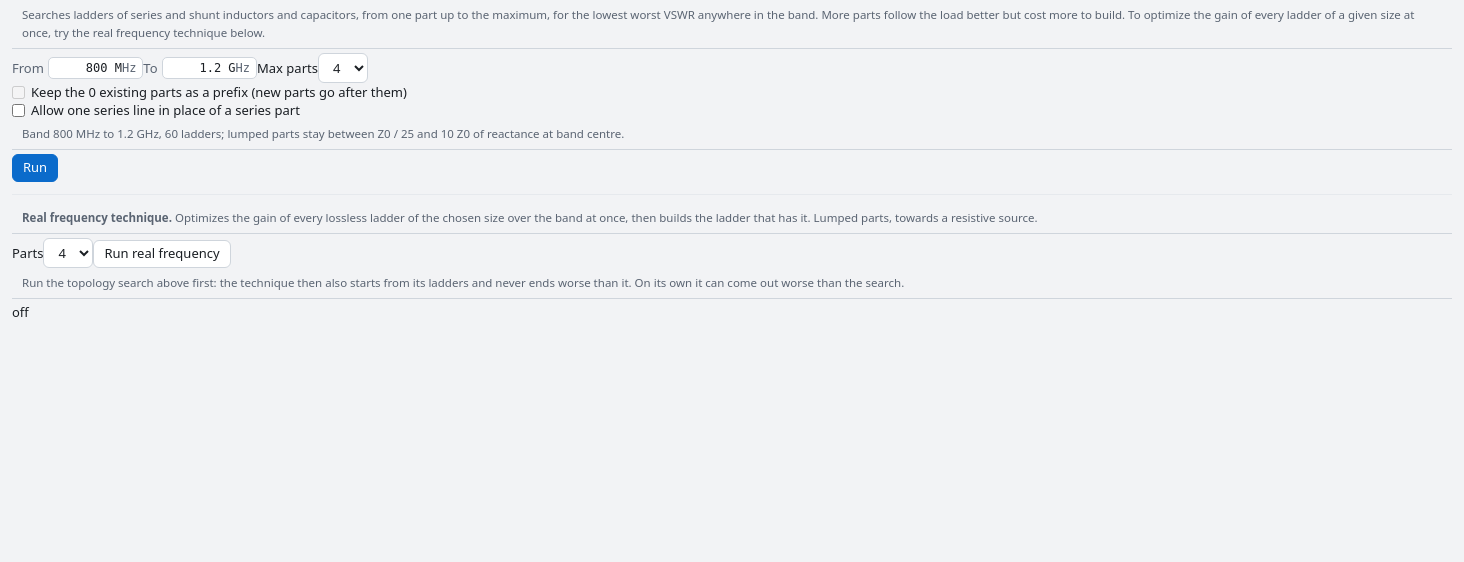
Test: Broadband list on a coarse pointer, target = Z0 › control: with a stable target object the same tap shows Add
Click the button "Run".
click(35, 168)  # box [12, 154, 58, 182]
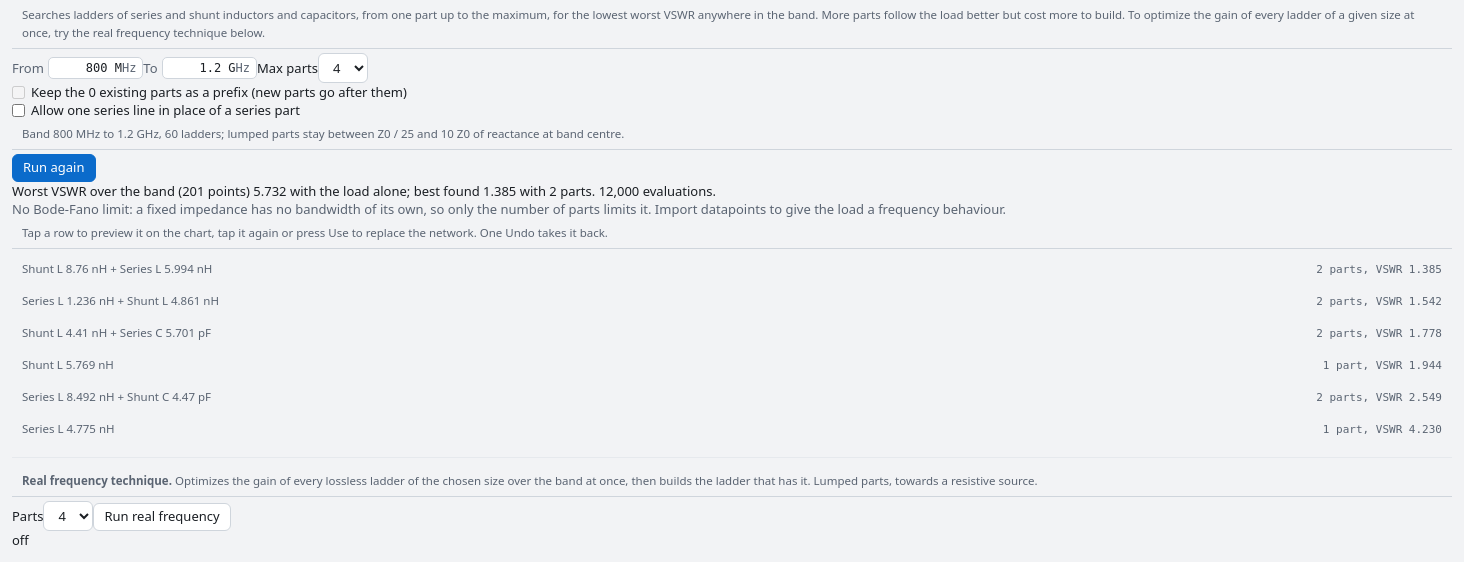
Click the 1st button with class "solution-pick".
click(42, 268)  # box [12, 253, 1452, 285]
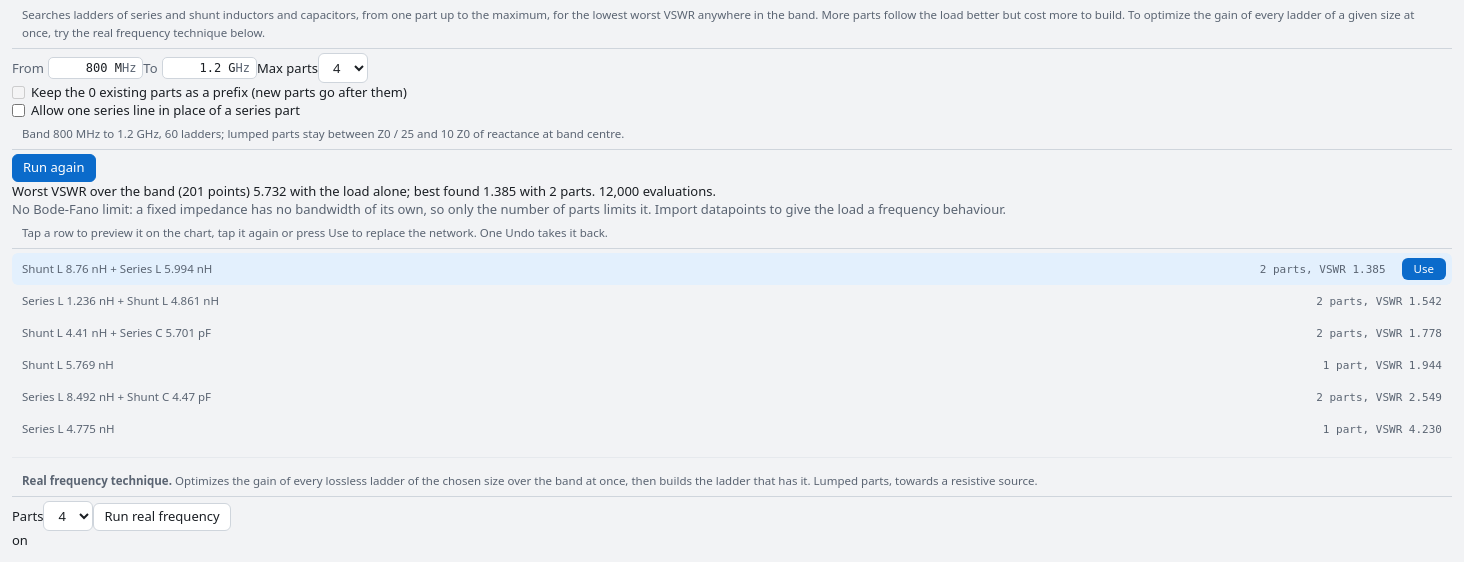
Check: the button with class "solution-add" is shown, box [1402, 258, 1446, 280]
